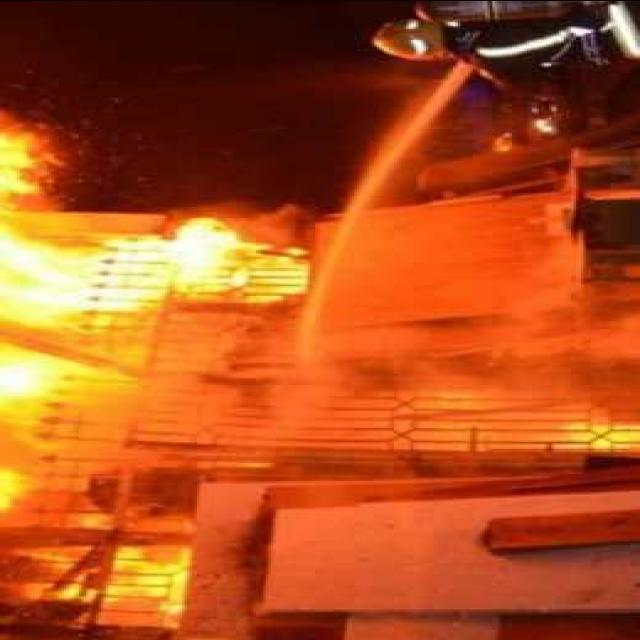Fire: (5, 124, 308, 624)
